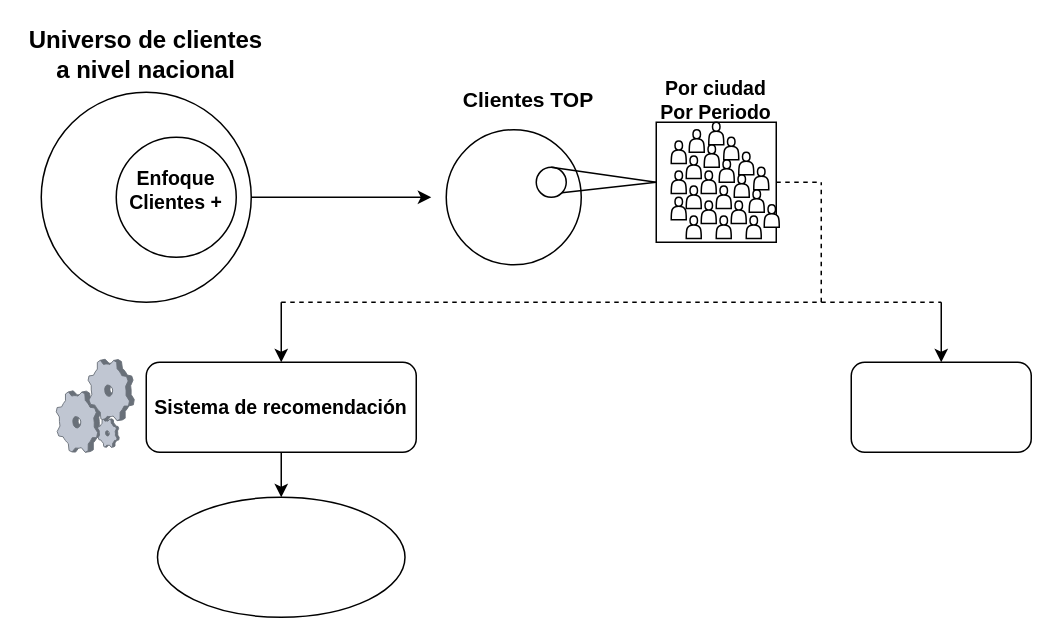
Image size: 1058x644. Some labels were removed from this diagram. Here are the shapes that lost their labels. From the top down, the box of each, then its label:
(850, 361, 1031, 452): Top 20 por cliente de clases más compradas
(156, 496, 405, 617): Top 20 por cliente de clases recomendadas
